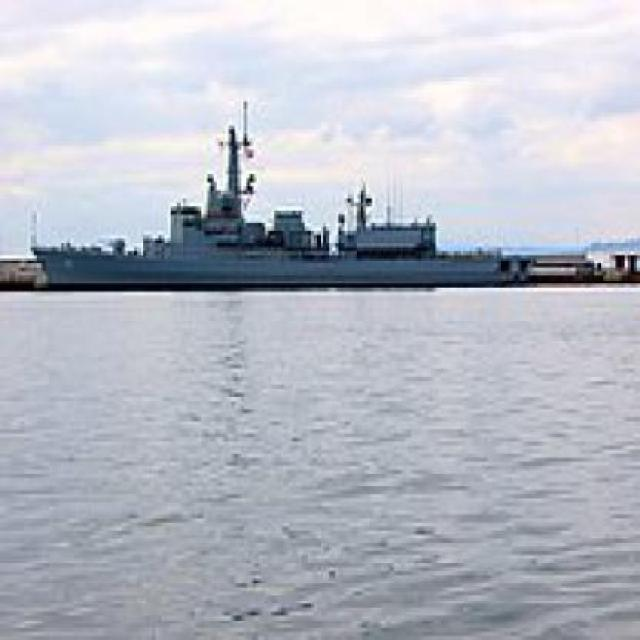warship2: (31, 123, 546, 309)
